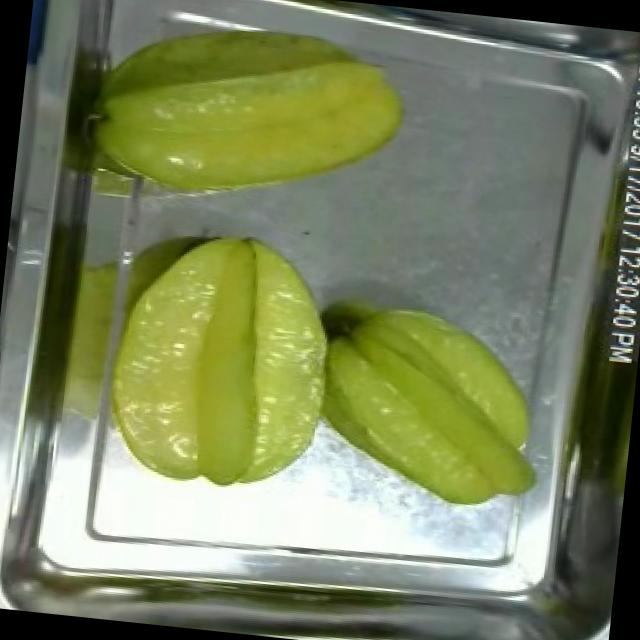fruit: (62, 0, 423, 226), (86, 210, 352, 507), (302, 284, 556, 522)
